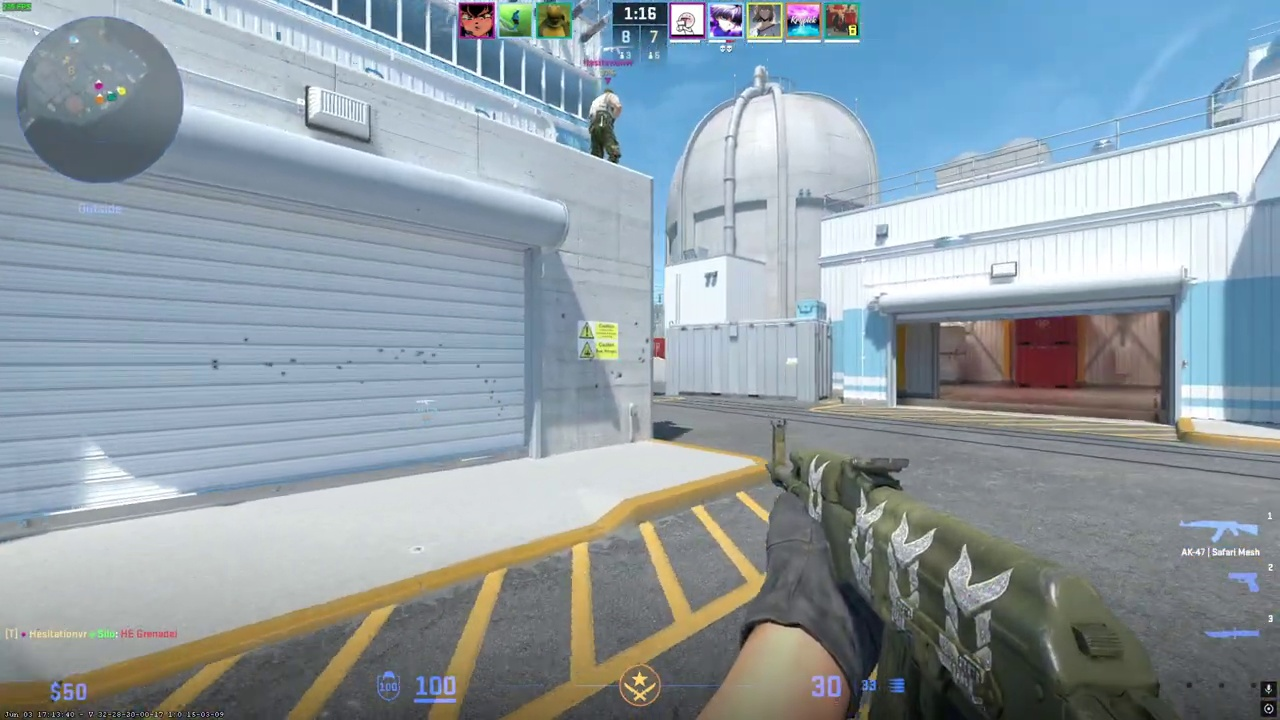Terrorist: (589, 88, 622, 164)
